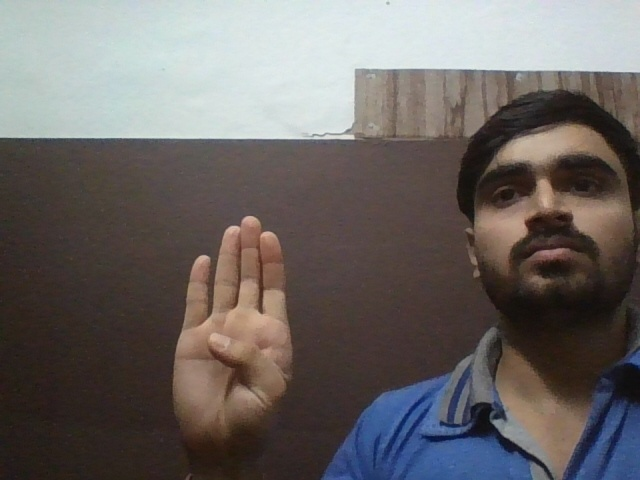B: (167, 212, 295, 448)
